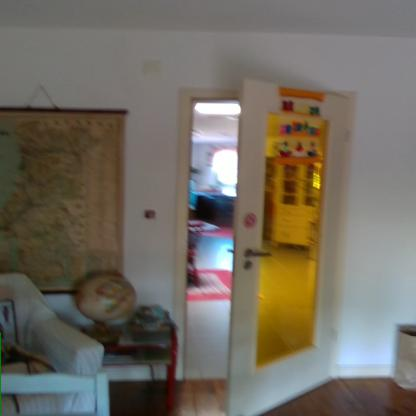semi: (174, 80, 335, 416)
